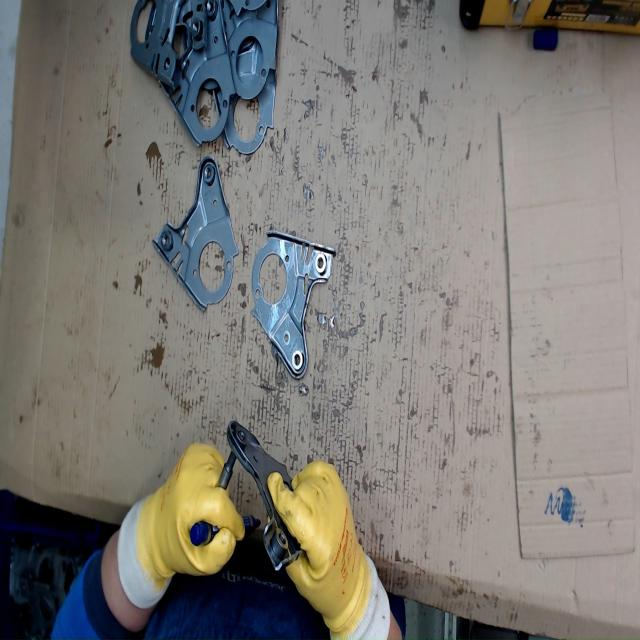hands: (268, 458, 368, 630), (136, 438, 246, 584)
